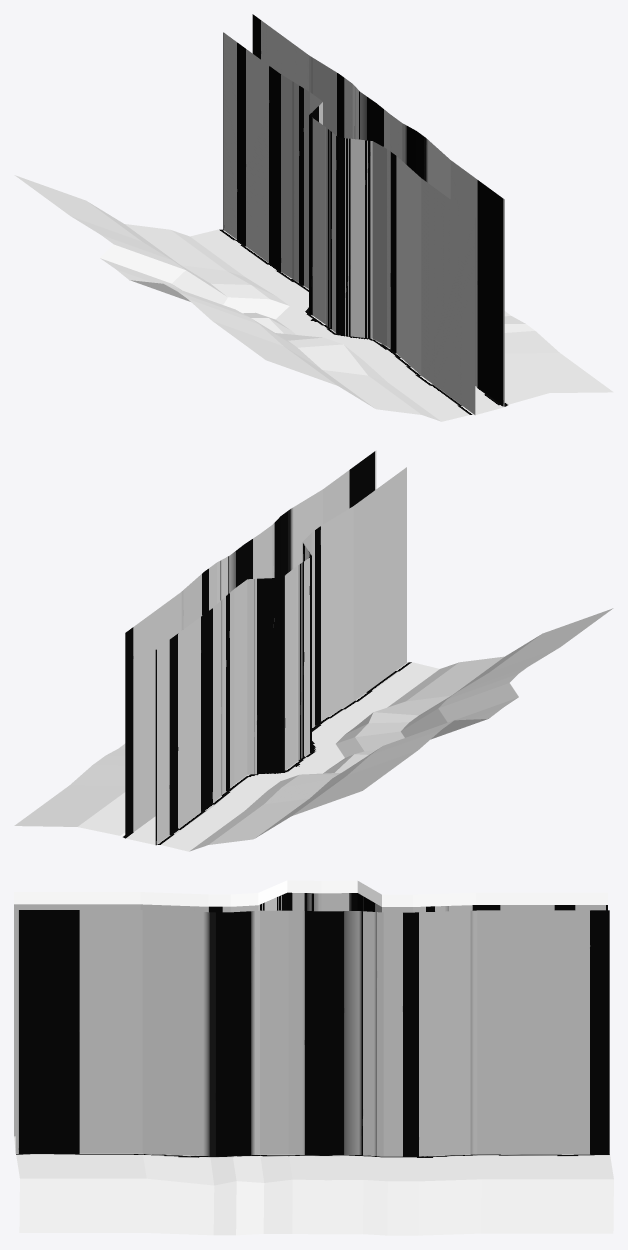
File: Area3Mesh.fbx
The picture shows the model from 3 angles, top to bottom: view 1: azimuth 30°, elevation 25°; view 2: azimuth 150°, elevation 25°; view 3: azimuth 270°, elevation 25°; orthographic projection. The views are drawn at different scales.
Visible parts, largest first — view 1: Wall1, Terrain, Wall2; view 2: Wall1, Terrain, Wall2; view 3: Wall2, Terrain, Wall1.
Part boxes in pixels (bbox=[...]): Wall1: bbox=[223, 32, 475, 414]; Terrain: bbox=[14, 175, 613, 421]; Wall2: bbox=[252, 14, 504, 406]; Wall1: bbox=[155, 467, 406, 844]; Terrain: bbox=[14, 608, 613, 851]; Wall2: bbox=[125, 450, 376, 837]; Wall2: bbox=[15, 910, 609, 1156]; Terrain: bbox=[14, 880, 613, 1235]; Wall1: bbox=[14, 892, 607, 1136].
Size of the model in its own units: 16921 by 9522 by 19945.
Materials: 1 (1 with a texture image).
